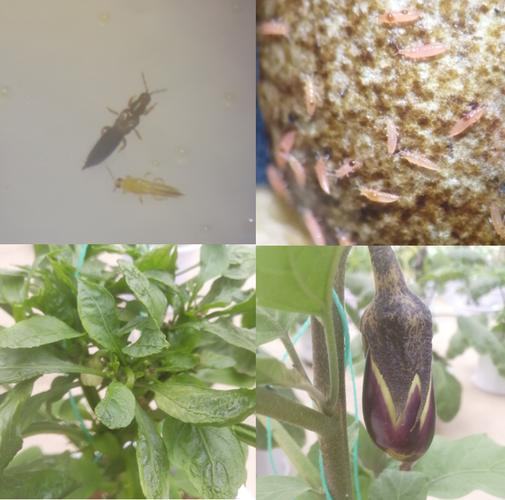Thripidae: (81, 72, 169, 172)
